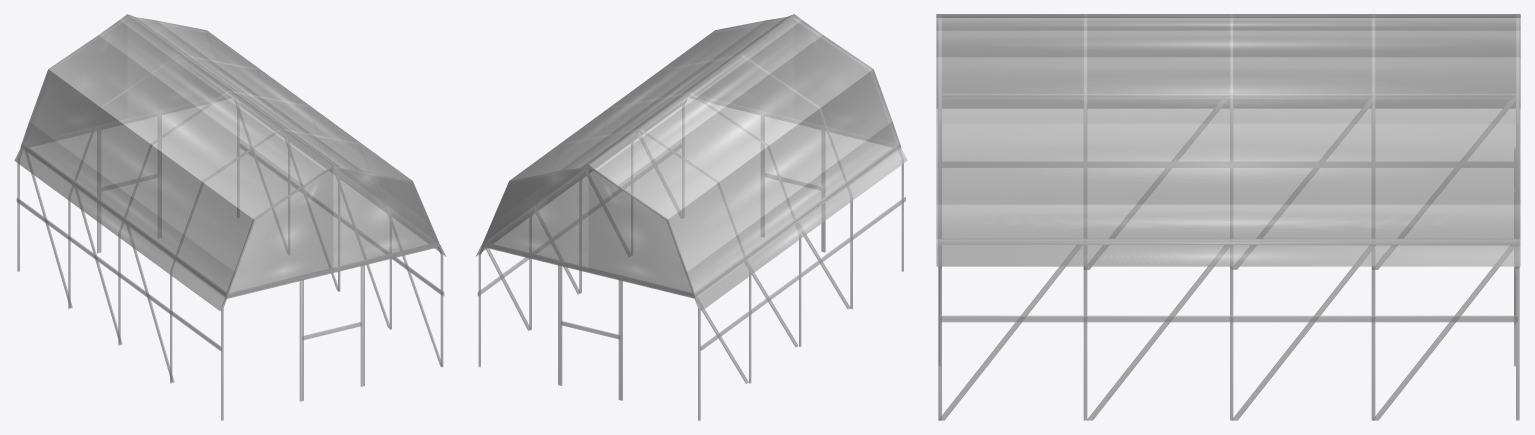
Rendered from greenhouse.fbx.
3 views of the same model, side by side, from view 1: azimuth 30°, elevation 25°; view 2: azimuth 150°, elevation 25°; view 3: azimuth 270°, elevation 25° (orthographic). The views are drawn at different scales.
Parts seen in each view (by area): view 1: plasticcover, plasticcover1, arch, pTorus4, pTorus3, pTorus2, pCube12, pTorus5, pCube7, pCube11, pCube1, pCube2 (+10 smaller); view 2: plasticcover, plasticcover1, pTorus2, pTorus5, pTorus3, arch, pTorus4, pCube12, pCube7, pCube11, pCube2, pCube1 (+5 smaller); view 3: plasticcover, plasticcover1, pCube11, pCube6, pCube12, pCube7, pTorus4, pTorus5, pTorus2, arch, pTorus3, pCube13 (+6 smaller).
Part boxes in pixels (left/top/right/bottom): plasticcover: left=14, top=14, right=445, bottom=310; plasticcover1: left=14, top=14, right=445, bottom=310; arch: left=221, top=166, right=443, bottom=420; pTorus4: left=170, top=128, right=391, bottom=383; pTorus3: left=118, top=91, right=340, bottom=345; pTorus2: left=17, top=17, right=238, bottom=271; pCube12: left=16, top=197, right=221, bottom=350; pTorus5: left=68, top=54, right=289, bottom=308; pCube7: left=24, top=145, right=225, bottom=295; pCube11: left=240, top=143, right=444, bottom=296; pCube1: left=228, top=243, right=436, bottom=297; pCube2: left=25, top=94, right=232, bottom=146; plasticcover: left=476, top=14, right=906, bottom=310; plasticcover1: left=476, top=14, right=906, bottom=310; pTorus2: left=478, top=166, right=700, bottom=420; pTorus5: left=529, top=129, right=751, bottom=383; pTorus3: left=579, top=92, right=801, bottom=346; arch: left=682, top=17, right=903, bottom=271; pTorus4: left=631, top=55, right=852, bottom=308; pCube12: left=700, top=197, right=905, bottom=350; pCube7: left=695, top=145, right=897, bottom=295; pCube11: left=477, top=144, right=681, bottom=296; pCube2: left=485, top=243, right=692, bottom=296; pCube1: left=688, top=95, right=895, bottom=146; plasticcover: left=936, top=14, right=1520, bottom=266; plasticcover1: left=936, top=14, right=1520, bottom=266; pCube11: left=939, top=315, right=1517, bottom=322; pCube6: left=942, top=239, right=1515, bottom=244; pCube12: left=942, top=162, right=1513, bottom=167; pCube7: left=942, top=94, right=1515, bottom=98; pTorus4: left=1083, top=15, right=1087, bottom=420; pTorus5: left=1371, top=15, right=1375, bottom=420; pTorus2: left=1516, top=15, right=1519, bottom=420; arch: left=938, top=15, right=941, bottom=420; pTorus3: left=1230, top=15, right=1233, bottom=420; pCube13: left=939, top=245, right=1082, bottom=420.
Bounding box in the file's own units: 2.06 × 2 × 3.25.
